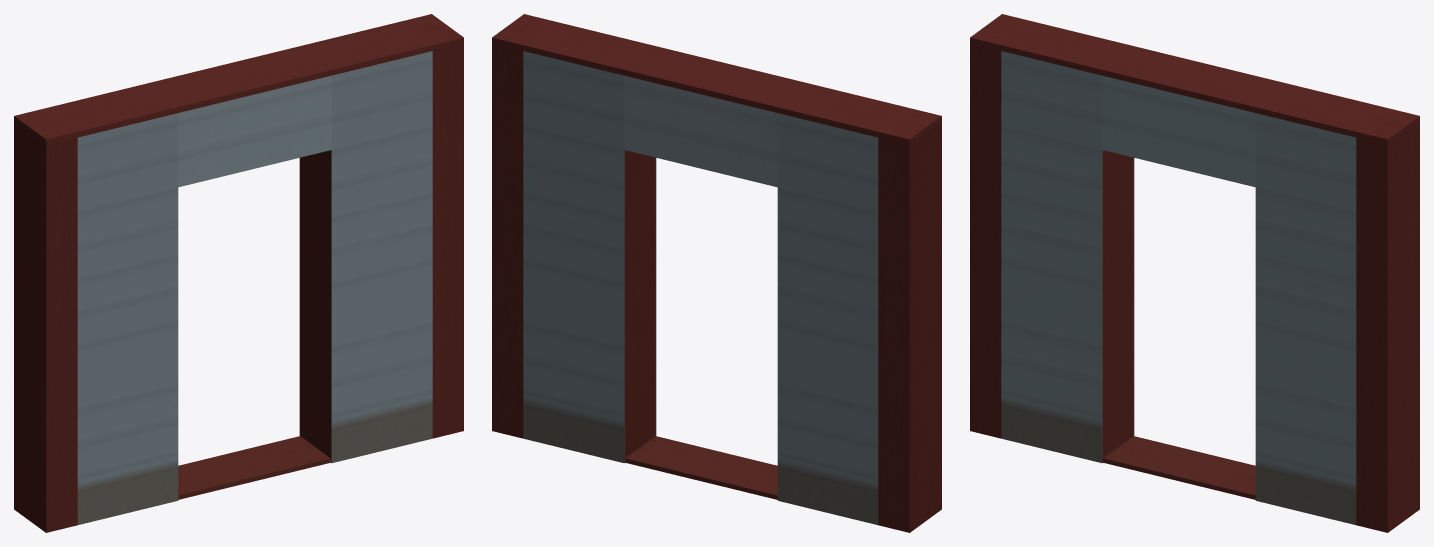
Rendered from house_02_wall_doorway.glb.
3 renders of one model, left to right at view 1: azimuth 30°, elevation 25°; view 2: azimuth 150°, elevation 25°; view 3: azimuth 330°, elevation 25°, orthographic.
Parts seen in each view (by area): view 1: outdoor_house_02_wall_doorway; view 2: outdoor_house_02_wall_doorway; view 3: outdoor_house_02_wall_doorway.
Part boxes in pixels (x1,y1,x2,y2): outdoor_house_02_wall_doorway: (14,14,463,532); outdoor_house_02_wall_doorway: (492,14,941,532); outdoor_house_02_wall_doorway: (970,14,1419,532).
Bounding box in the file's own units: 3 × 2.7 × 0.4.
Materials: 1 (1 with a texture image).
